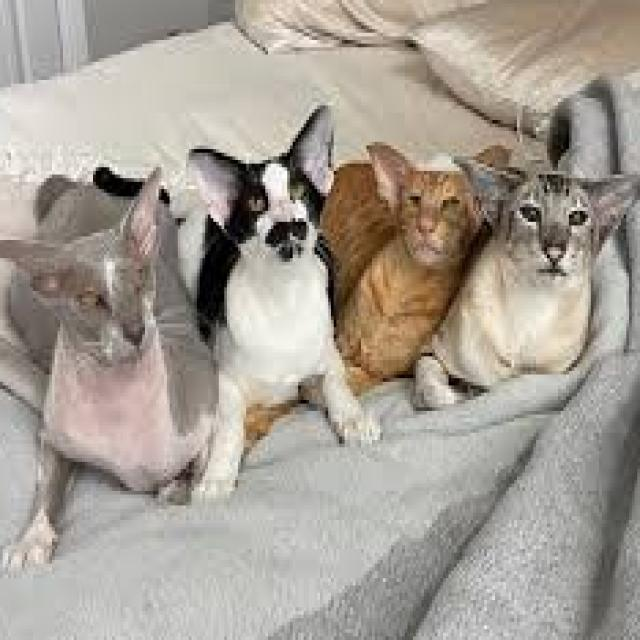Oriental: (183, 98, 377, 499), (440, 146, 640, 404), (320, 131, 510, 383)
Sphynx: (0, 167, 219, 578)
